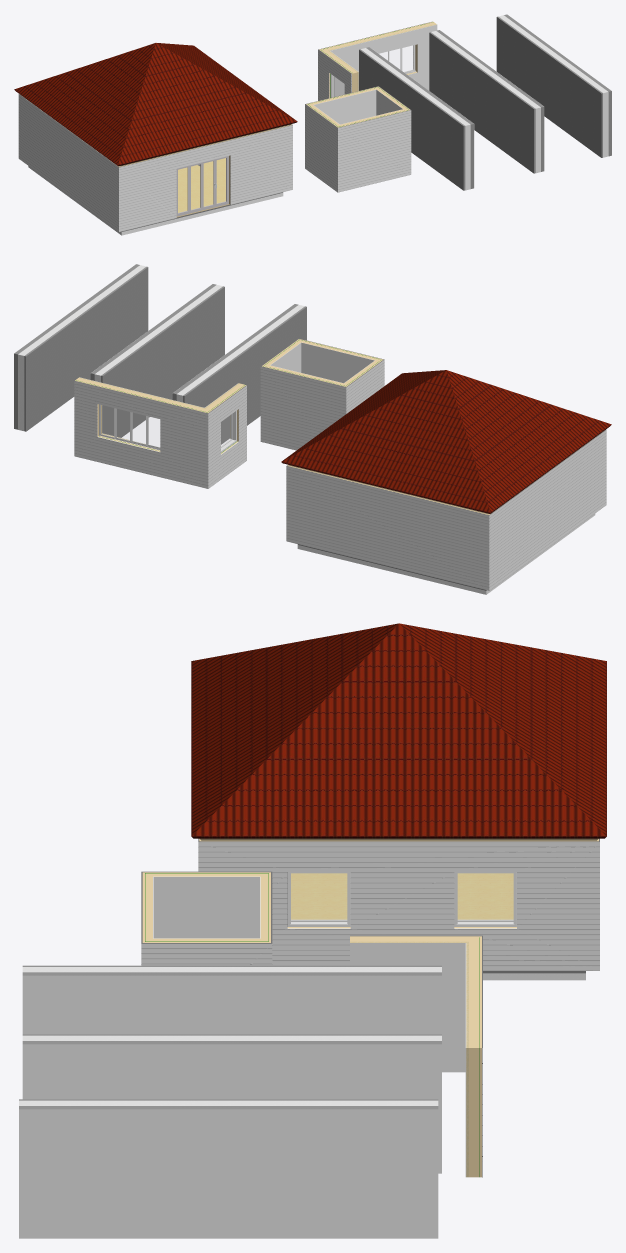
The model's file is Architectural model.glb.
3 views of the same model, one above another, from view 1: azimuth 30°, elevation 25°; view 2: azimuth 150°, elevation 25°; view 3: azimuth 270°, elevation 25° (orthographic). The views are drawn at different scales.
Visible parts, largest first — view 1: VertexModel; view 2: VertexModel; view 3: VertexModel.
Boxes of the visible parts, x1,y1,x2,y2 form: VertexModel: (14, 14, 611, 235); VertexModel: (14, 264, 611, 594); VertexModel: (19, 623, 606, 1238).
Bounding box in the file's own units: 20.11 × 5.92 × 11.35.
Materials: 35 (8 with a texture image).
